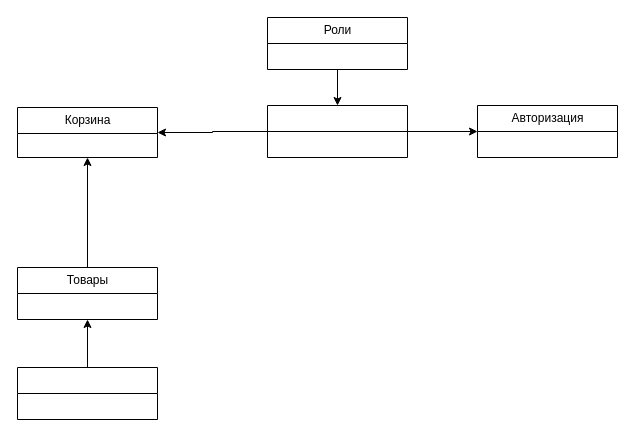
Some shapes in this 635 by 437 pixel diagram are drawn without their labels. The shapes that lost their labels are listed below. From the top down, each one's centre as x and y in pixels, then its label:
At (x=337, y=131): "Пользователи".
At (x=87, y=393): "Категория".
